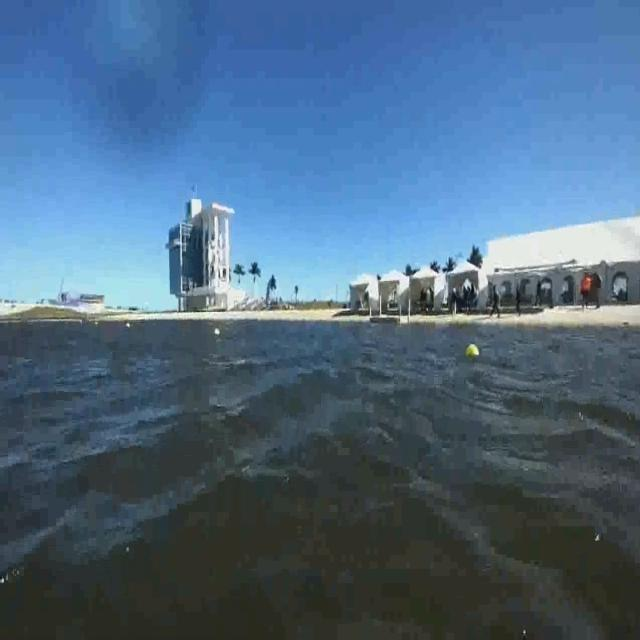yellow-buoy: (466, 344, 478, 359)
